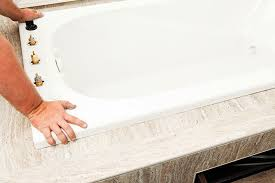bathub: (14, 1, 275, 150)
